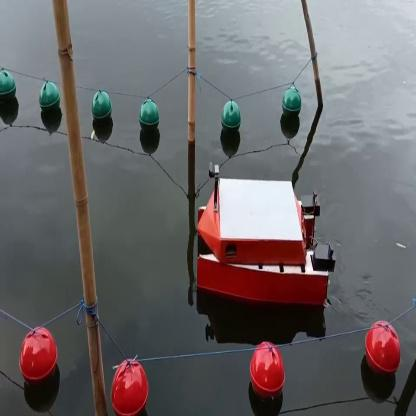green_buoy: (216, 93, 244, 146), (37, 78, 63, 122), (276, 84, 302, 126), (140, 99, 160, 145), (0, 66, 18, 117), (92, 90, 113, 130)
red_buoy: (19, 324, 60, 391), (363, 324, 401, 384), (250, 344, 288, 402), (110, 362, 150, 415)
